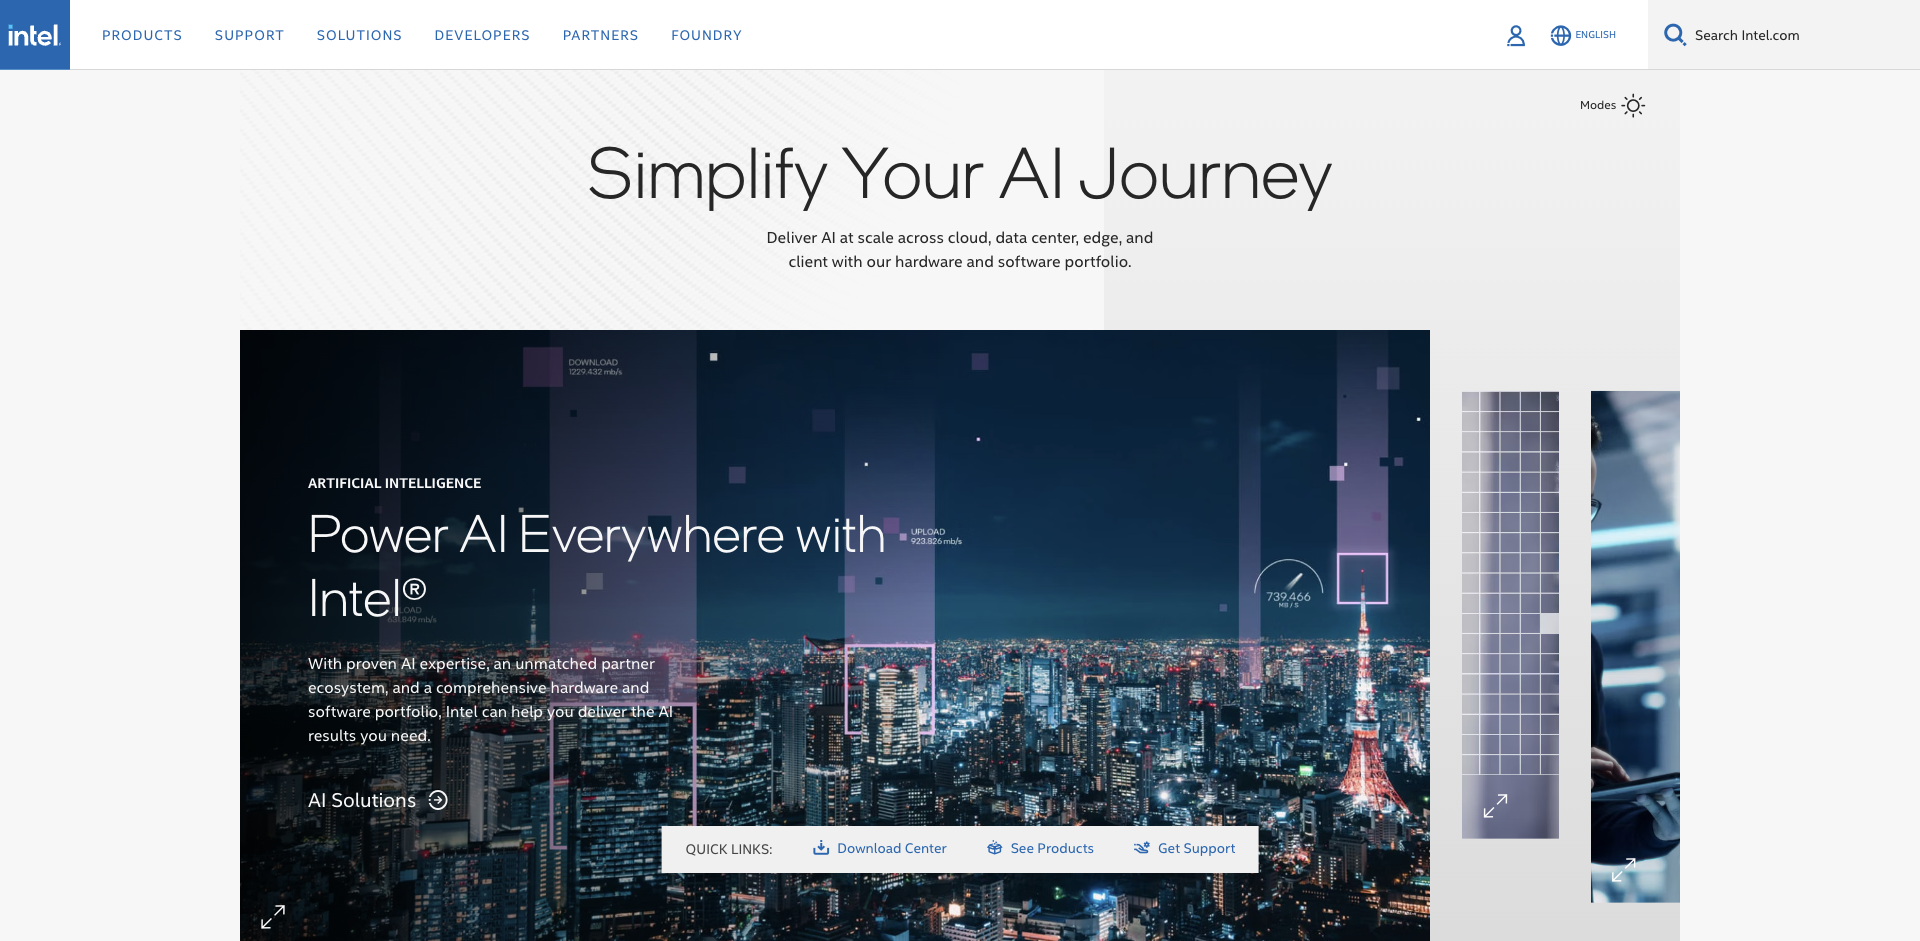button: (244, 333, 1427, 941), (1594, 395, 1676, 898), (1467, 395, 1555, 834), (426, 0, 539, 70), (309, 0, 410, 70), (94, 0, 191, 70), (555, 0, 648, 70), (664, 0, 751, 70), (207, 0, 293, 70), (1545, 0, 1621, 70), (1573, 89, 1656, 121), (1500, 0, 1532, 70), (1664, 22, 1687, 47)
icon: (1576, 29, 1616, 39)
input: (1687, 6, 1920, 62)
label: (1687, 6, 1920, 62)
link: (309, 788, 940, 812), (838, 826, 970, 872), (1010, 826, 1117, 872), (1158, 826, 1259, 872), (9, 25, 62, 45)
